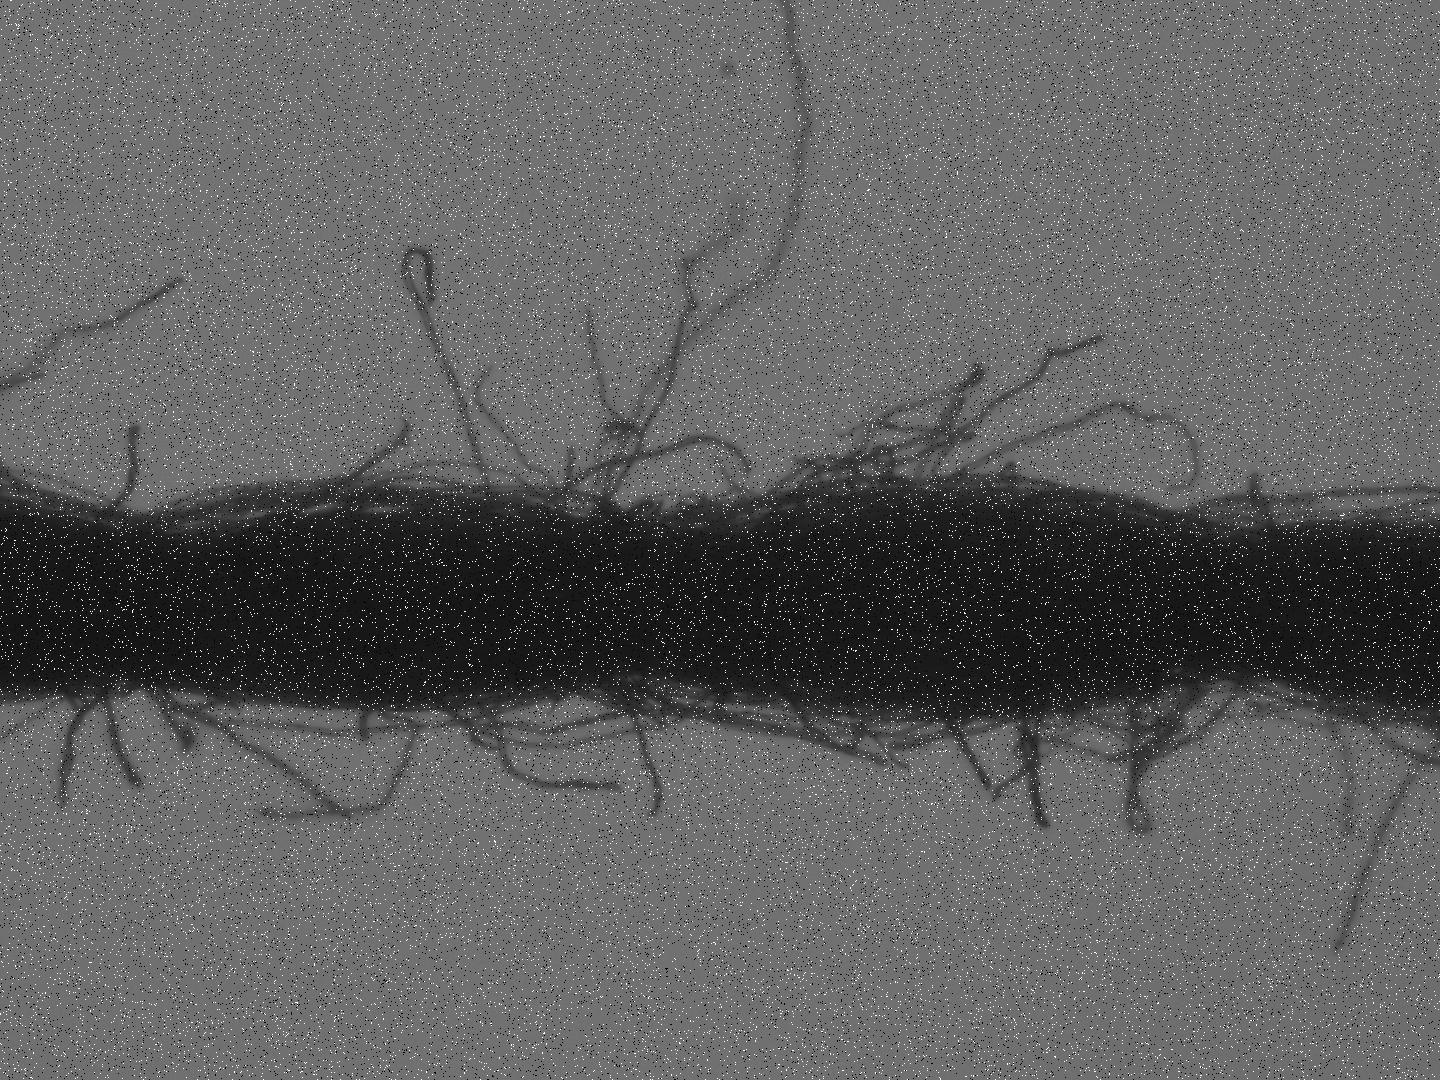loop_fiber: (443, 682, 713, 754), (409, 479, 660, 531), (141, 475, 353, 533), (647, 695, 896, 744), (740, 453, 884, 521), (586, 683, 756, 732), (1071, 676, 1204, 734), (779, 695, 870, 760), (827, 711, 1008, 743), (322, 486, 458, 522), (712, 496, 779, 538), (156, 686, 231, 716), (61, 684, 137, 712)
protruding_fiber: (927, 704, 1000, 795), (90, 417, 145, 526), (102, 697, 149, 795)
